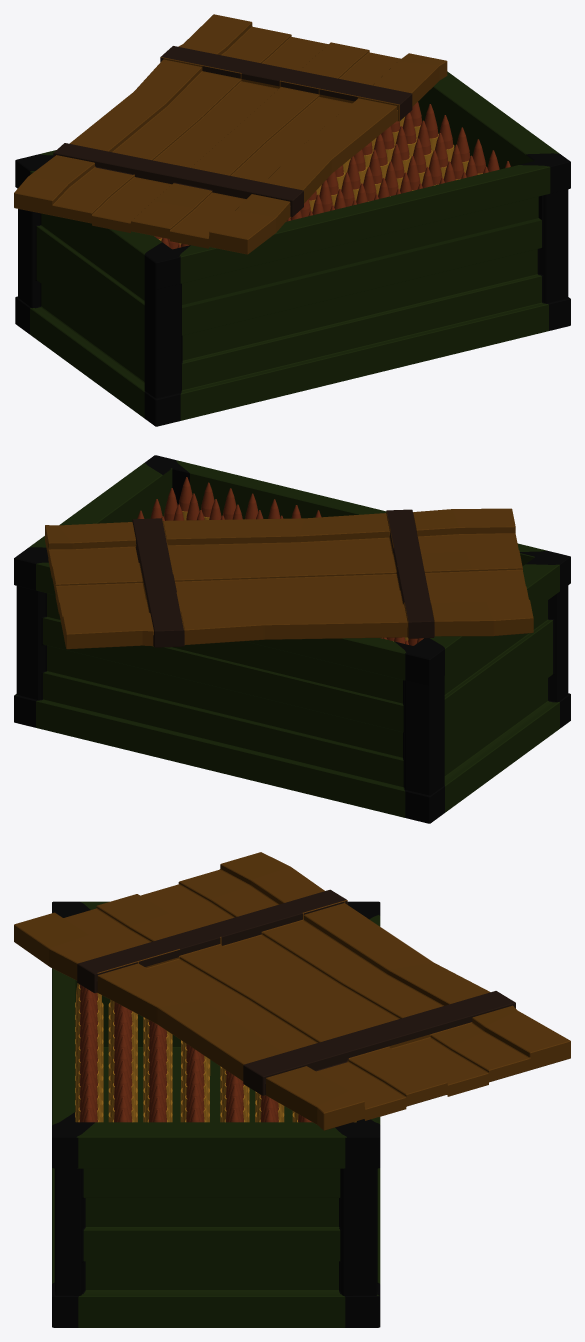
The model's file is AmmoPickup.fbx.
3 renders of one model, top to bottom at view 1: azimuth 30°, elevation 25°; view 2: azimuth 150°, elevation 25°; view 3: azimuth 270°, elevation 25°, orthographic. The views are drawn at different scales.
Parts seen in each view (by area): view 1: Plane; view 2: Plane; view 3: Plane.
Part boxes in pixels (x1=…): Plane: x1=14, y1=14, x2=570, y2=426; Plane: x1=14, y1=455, x2=570, y2=823; Plane: x1=14, y1=852, x2=570, y2=1327.
Size of the model in its own units: 417 by 156 by 370.
